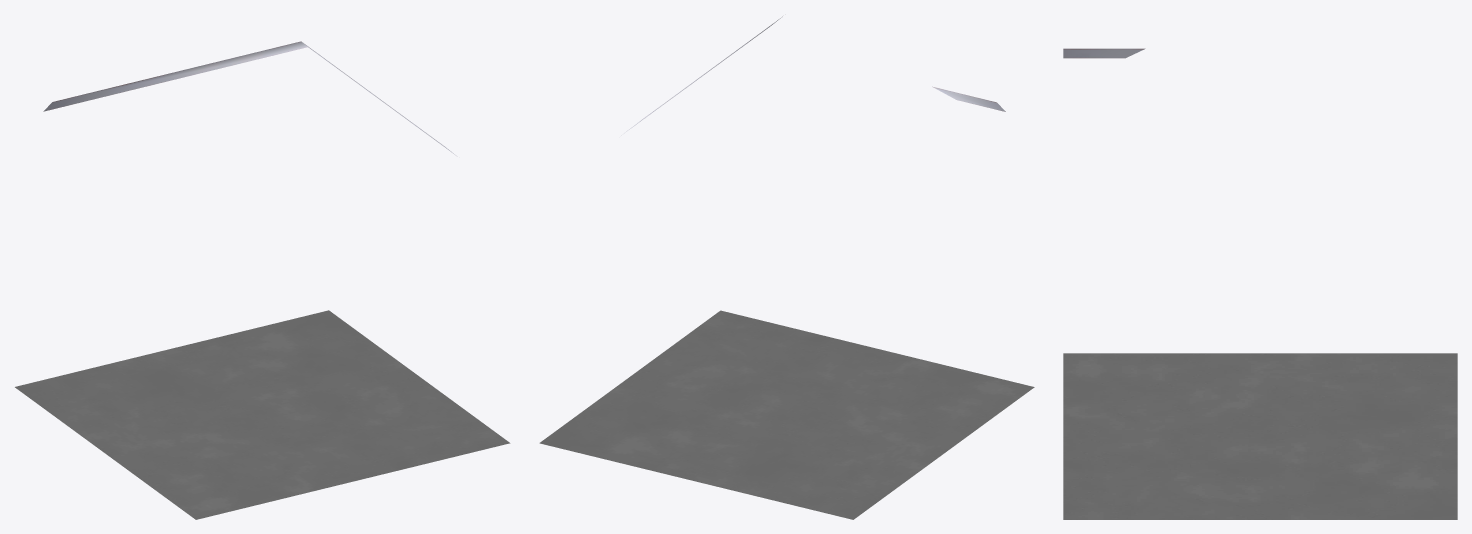
Rendered from Room_3.glb.
The picture shows the model from 3 angles, left to right: view 1: azimuth 30°, elevation 25°; view 2: azimuth 150°, elevation 25°; view 3: azimuth 270°, elevation 25°; orthographic projection. The views are drawn at different scales.
Visible parts, largest first — view 1: Room_3; view 2: Room_3; view 3: Room_3.
Boxes of the visible parts, x1,y1,x2,y2 form: Room_3: [15, 41, 510, 519]; Room_3: [539, 16, 1034, 519]; Room_3: [1063, 48, 1457, 519].
Size of the model in its own units: 6 by 5.7 by 6.
Materials: 2 (2 with a texture image).
